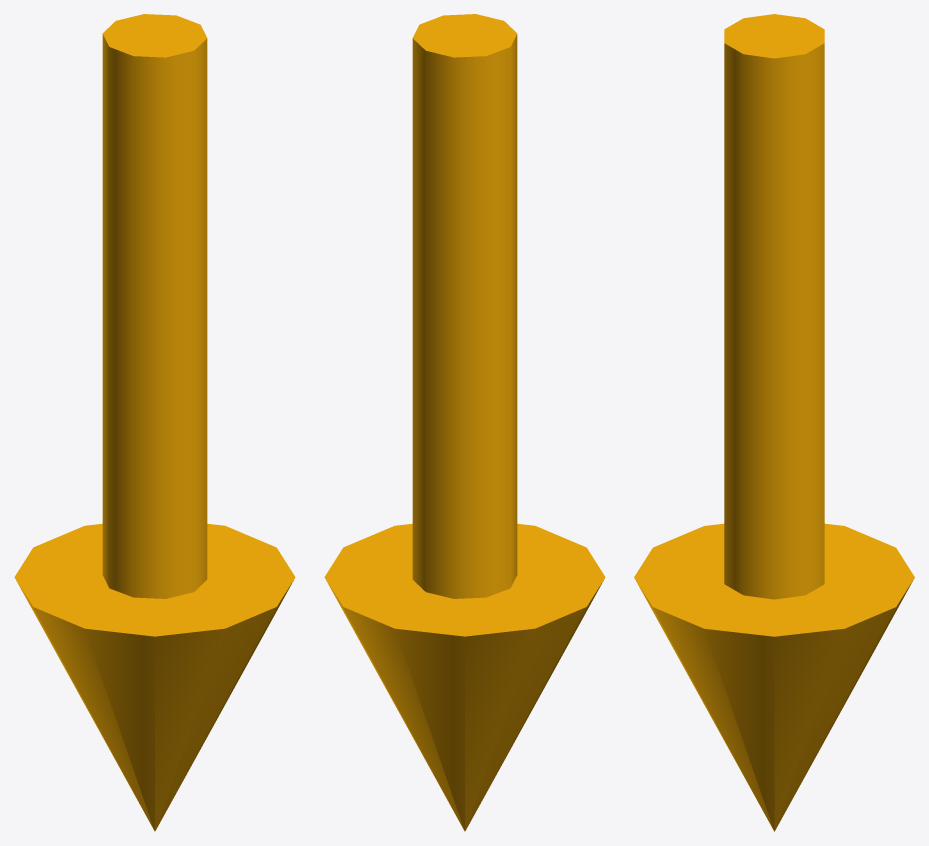
File: arrow.glb
3 views of the same model, side by side, from view 1: azimuth 30°, elevation 25°; view 2: azimuth 150°, elevation 25°; view 3: azimuth 270°, elevation 25° (orthographic).
Parts seen in each view (by area): view 1: arrow; view 2: arrow; view 3: arrow.
Part boxes in pixels (x1,y1,x2,y2): arrow: [14, 14, 295, 831]; arrow: [324, 14, 605, 831]; arrow: [634, 14, 914, 831].
Size of the model in its own units: 0.016 by 0.05 by 0.016.
